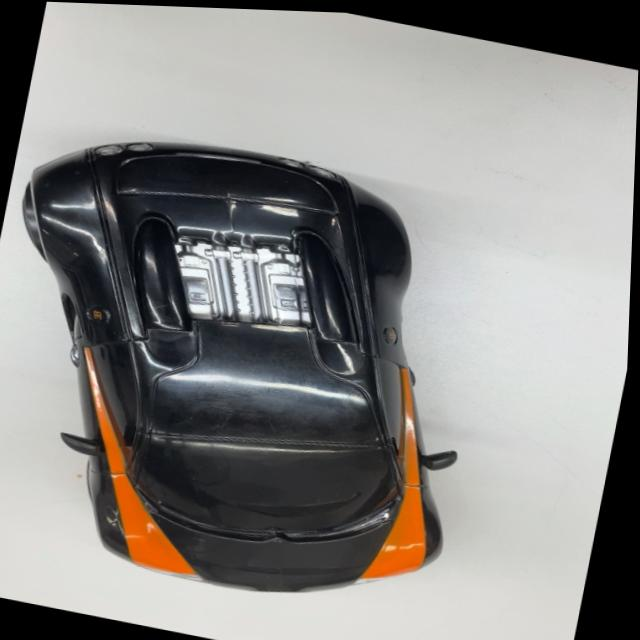vehicle_body: (0, 104, 518, 634)
